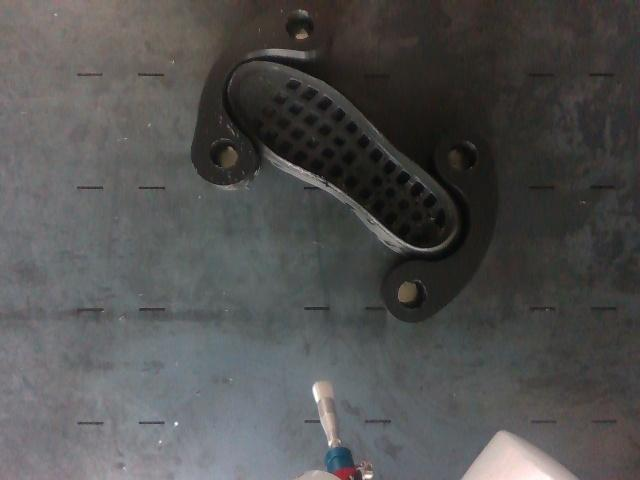shoes: (230, 62, 457, 250)
